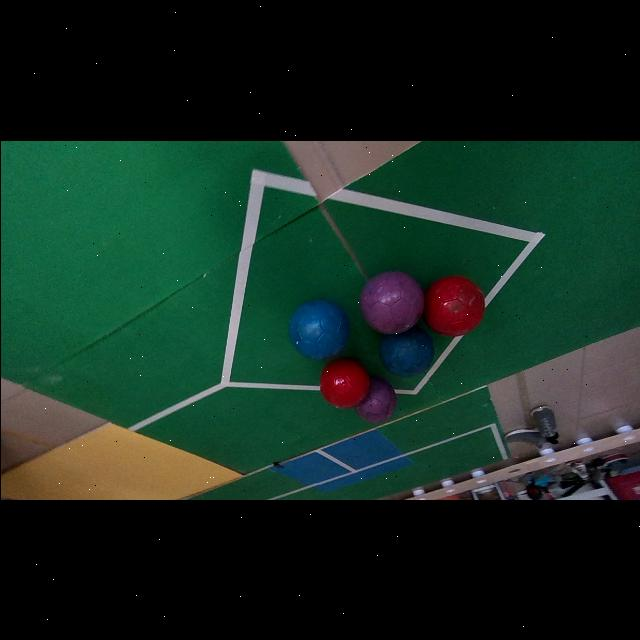B: (288, 299, 349, 360), (377, 325, 433, 377)
P: (359, 271, 423, 334), (354, 377, 395, 423)
R: (421, 275, 482, 336), (319, 358, 368, 409)
